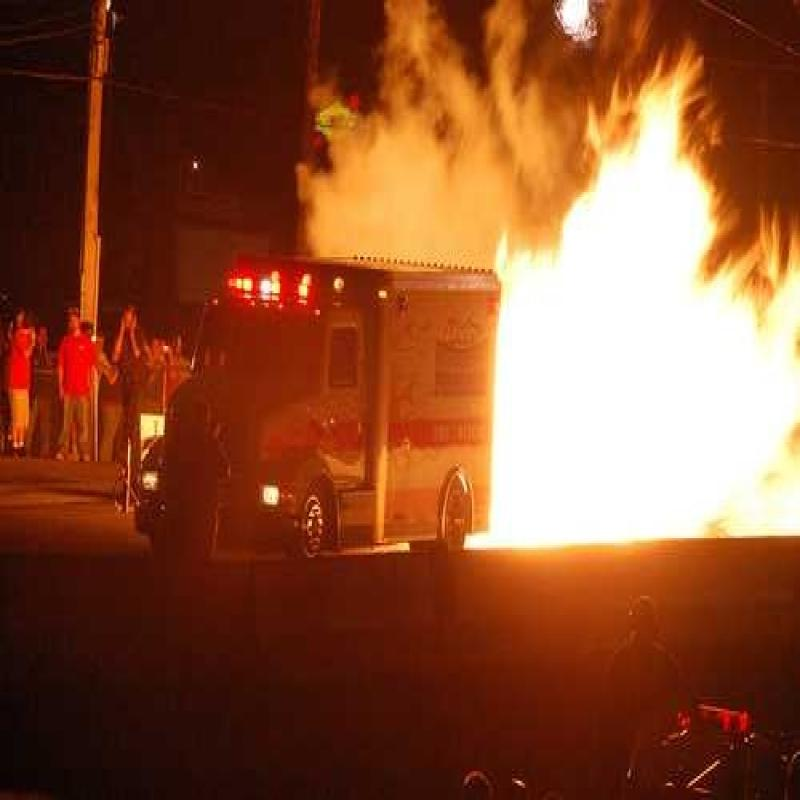AmbulanceSiren: (216, 256, 327, 332)
